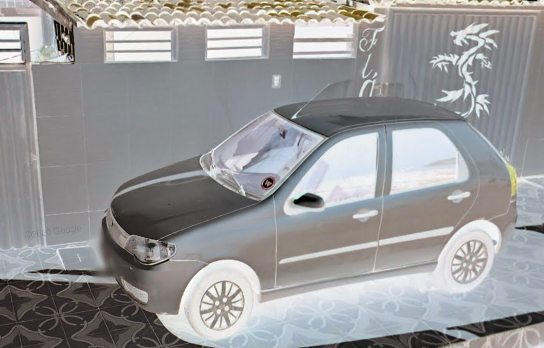car: (98, 81, 519, 340)
